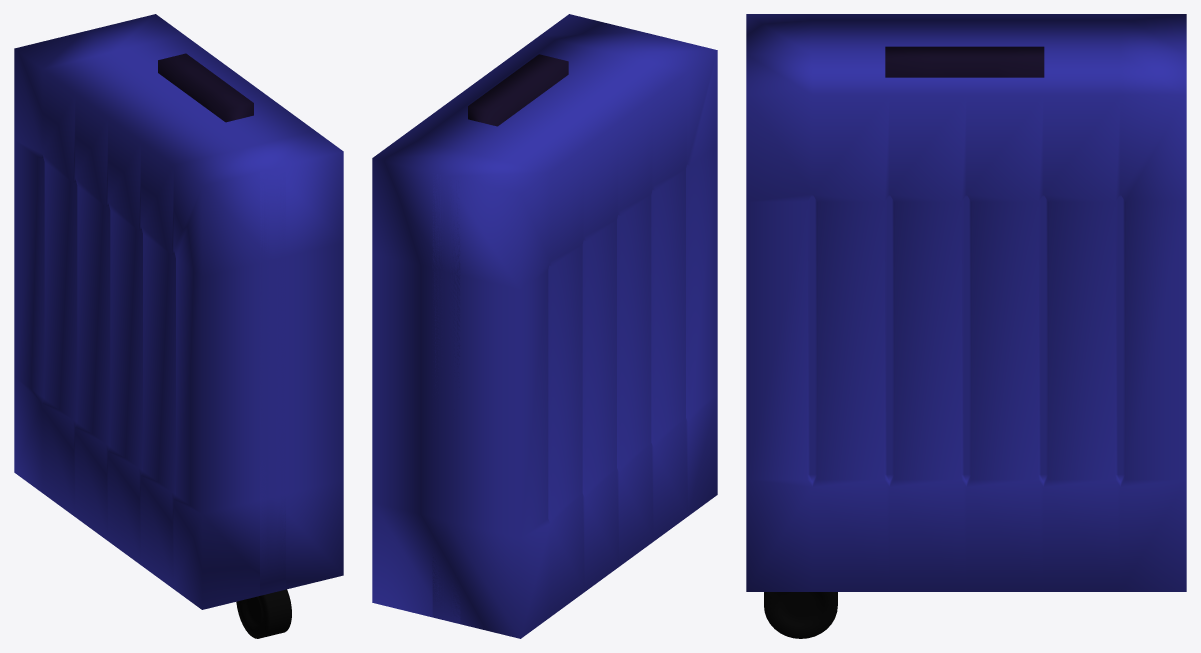
The model's file is Suitcase.glb.
The picture shows the model from 3 angles, left to right: view 1: azimuth 30°, elevation 25°; view 2: azimuth 150°, elevation 25°; view 3: azimuth 270°, elevation 25°; orthographic projection. The views are drawn at different scales.
Visible parts, largest first — view 1: Cube, Cube.002, Cube.001, Cylinder.001; view 2: Cube, Cube.002, Cube.001; view 3: Cube, Cube.001, Cylinder.001.
Part boxes in pixels (x1,y1,x2,y2): Cube: [14, 14, 343, 609]; Cube.002: [260, 166, 285, 595]; Cube.001: [158, 53, 253, 122]; Cylinder.001: [236, 589, 291, 638]; Cube: [372, 14, 717, 638]; Cube.002: [432, 174, 460, 623]; Cube.001: [468, 54, 568, 126]; Cube: [746, 14, 1186, 591]; Cube.001: [885, 46, 1044, 77]; Cylinder.001: [764, 592, 837, 638].
Bounding box in the file's own units: 0.87 × 2.92 × 2.
